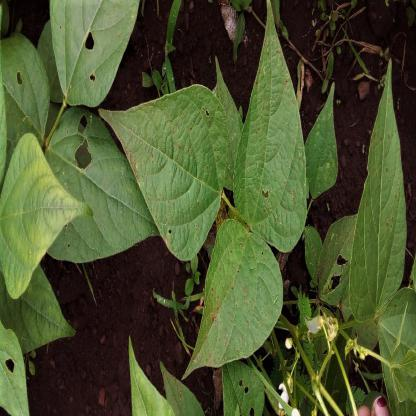Beans_Angular_LeafSpot: (107, 74, 225, 265), (230, 24, 315, 247), (181, 236, 283, 376), (55, 0, 129, 108), (324, 214, 348, 314)
